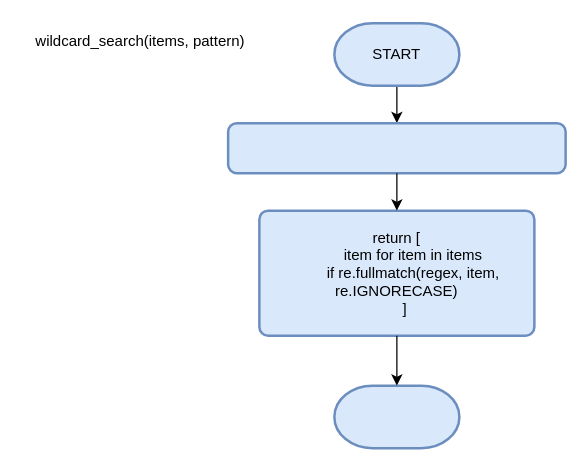
Image size: 588x470. Some labels were removed from this diagram. Here are the shapes that lost their labels. From the top down, the centre of each, then its label:
point 396,147: regex = re.escape(pattern).replace(r"\*", ".*")
point 396,416: END
